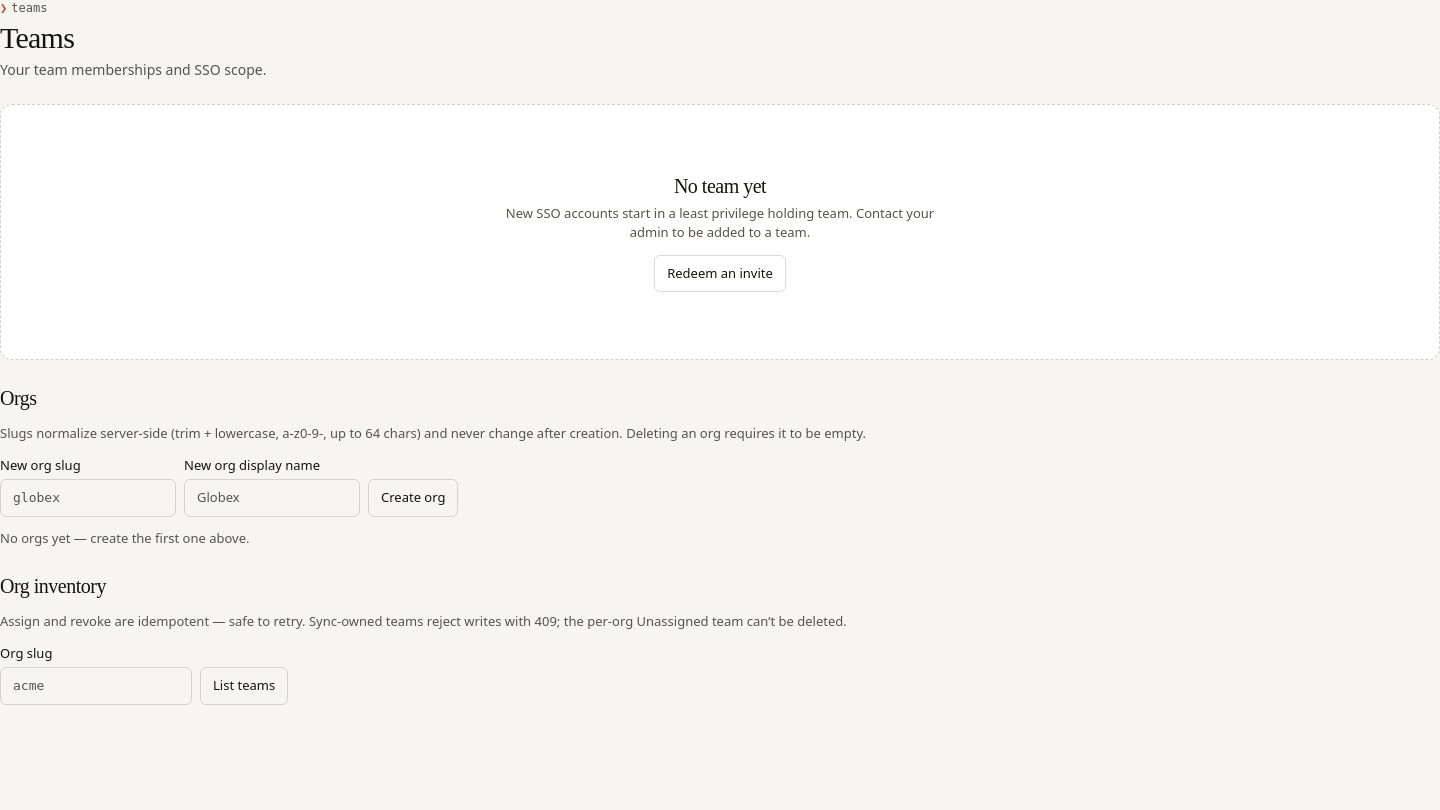
Test case: TeamsPage › names unknown orgs without inventing teams
Expected: the text "No team yet" is shown, [674,172,766,200]
In the field labelled "Org slug": (96, 686) [0,667,192,704], type "nope"
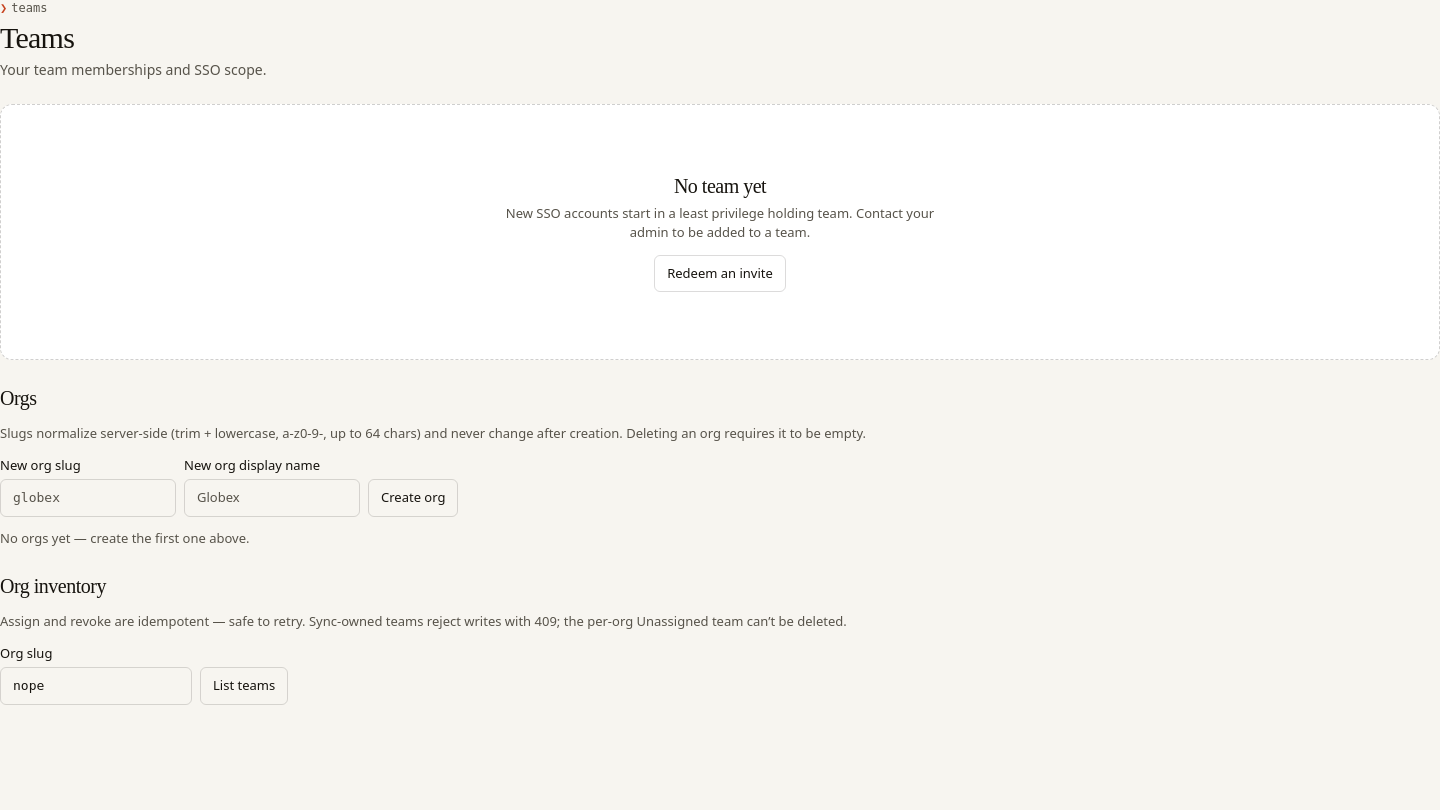
Click the button "List teams": (244, 686) [200,667,288,704]
(page scrolled)
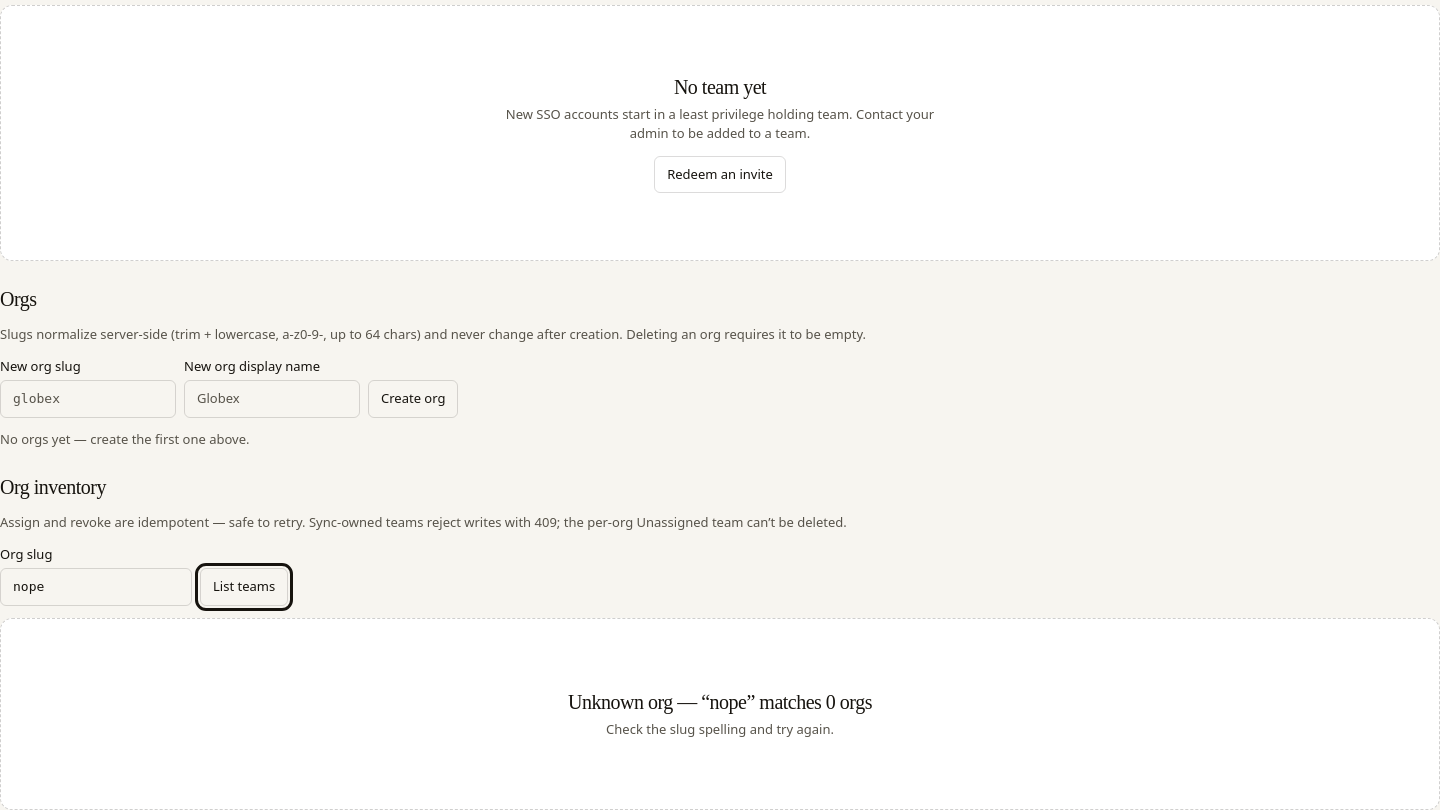
Expected: the text "Unknown org — “nope” matches 0 orgs" is shown, [568,688,872,716]
